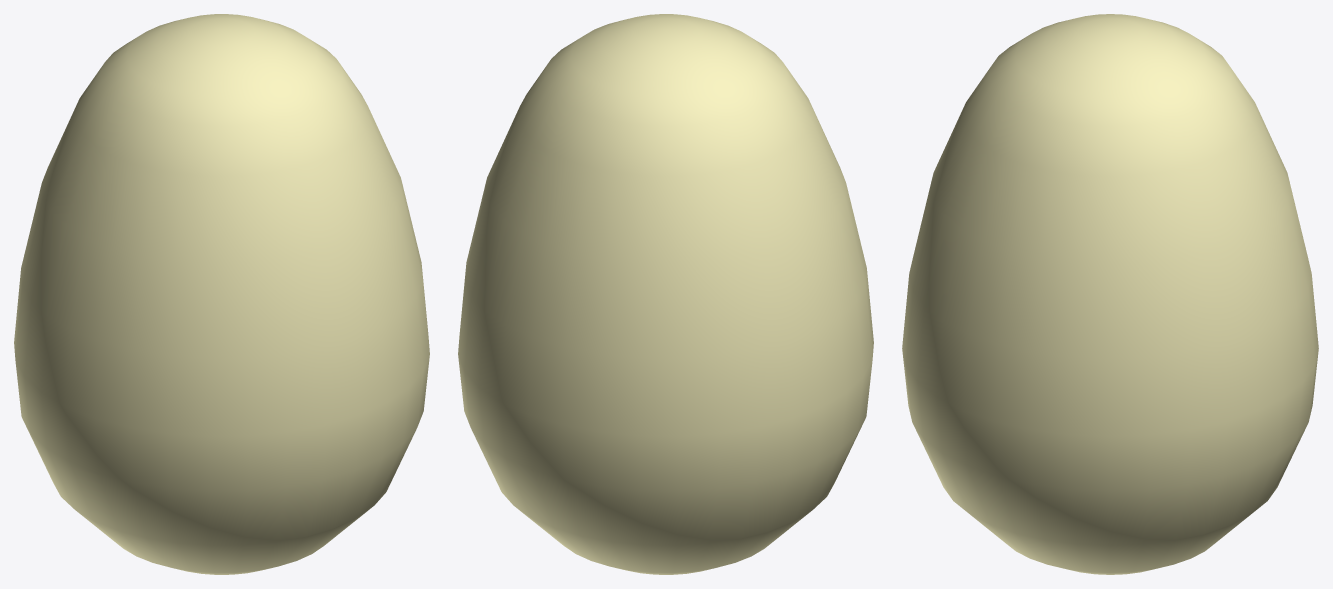
File: egg.fbx
3 views of the same model, side by side, from view 1: azimuth 30°, elevation 25°; view 2: azimuth 150°, elevation 25°; view 3: azimuth 270°, elevation 25° (orthographic).
Visible parts, largest first — view 1: kiaušinis; view 2: kiaušinis; view 3: kiaušinis.
Part boxes in pixels (x1,y1,x2,y2): kiaušinis: (14,14,429,574); kiaušinis: (458,14,873,574); kiaušinis: (902,14,1318,574).
Bounding box in the file's own units: 1.6 × 2.22 × 1.6.
